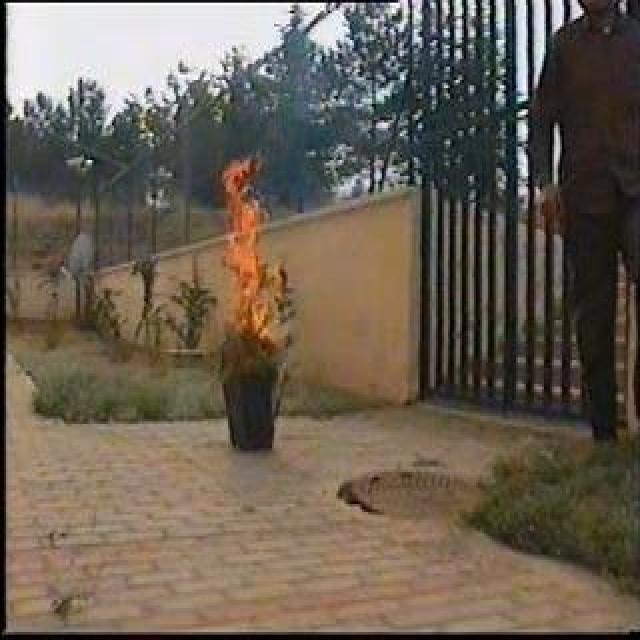fire: (225, 165, 268, 326)
